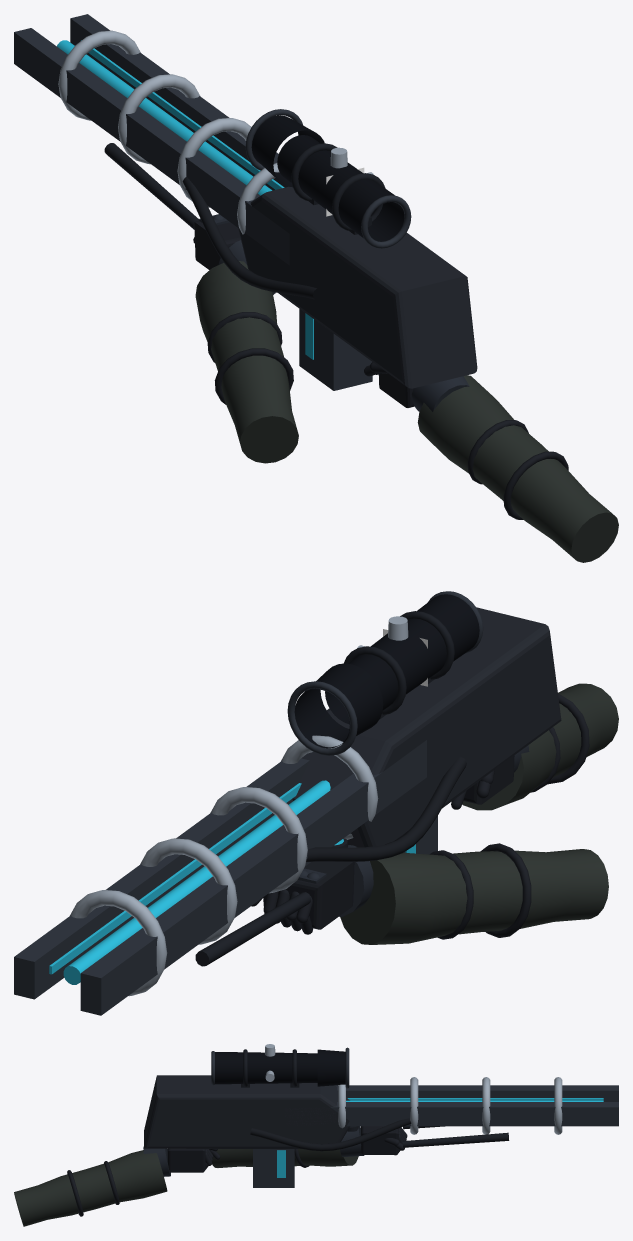
File: railx9_sniper.glb
The picture shows the model from 3 angles, top to bottom: view 1: azimuth 30°, elevation 25°; view 2: azimuth 150°, elevation 25°; view 3: azimuth 270°, elevation 25°; orthographic projection. The views are drawn at different scales.
Visible parts, largest first — view 1: object 1, RightHand, LeftHand, object 2, object 19, object 4, Magazine, RailPlasmaCore, object 13, object 20, object 10, object 9 (+6 smaller); view 2: LeftHand, object 1, object 2, object 4, RightHand, object 19, object 20, RailPlasmaCore, object 13, object 5, object 10, object 9 (+6 smaller); view 3: object 1, RightHand, object 4, object 2, LeftHand, object 19, Magazine, object 14, object 20, object 12, object 3, object 10 (+4 smaller).
Boxes of the visible parts, box(x1,y1,x2,y2) form: object 1: box(238, 186, 477, 388); RightHand: box(364, 362, 618, 562); LeftHand: box(193, 214, 298, 463); object 2: box(14, 28, 289, 265); object 19: box(277, 135, 404, 241); object 4: box(70, 14, 287, 190); Magazine: box(299, 309, 372, 390); RailPlasmaCore: box(57, 40, 272, 195); object 13: box(182, 177, 316, 299); object 20: box(251, 115, 324, 187); object 10: box(58, 30, 140, 120); object 9: box(118, 74, 200, 164); LeftHand: box(251, 838, 608, 944); object 1: box(292, 607, 561, 847); object 2: box(80, 740, 426, 1015); object 4: box(14, 758, 309, 999); RightHand: box(451, 683, 618, 810); object 19: box(325, 594, 479, 724); object 20: box(294, 663, 383, 748); RailPlasmaCore: box(63, 780, 330, 984); object 13: box(306, 756, 466, 861); object 5: box(49, 783, 301, 974); object 10: box(70, 890, 167, 996); object 9: box(140, 838, 237, 944); object 1: box(144, 1075, 349, 1148); RightHand: box(14, 1146, 220, 1226); object 4: box(285, 1102, 618, 1126); object 2: box(335, 1085, 618, 1101); LeftHand: box(212, 1126, 407, 1167); object 19: box(215, 1052, 317, 1084); Magazine: box(253, 1149, 294, 1187); object 14: box(250, 1118, 411, 1151); object 20: box(317, 1049, 345, 1086); object 12: box(402, 1132, 509, 1147); object 3: box(347, 1098, 603, 1100); object 10: box(554, 1077, 562, 1134).
Size of the model in its own units: 0.3903 by 0.4802 by 1.6.
